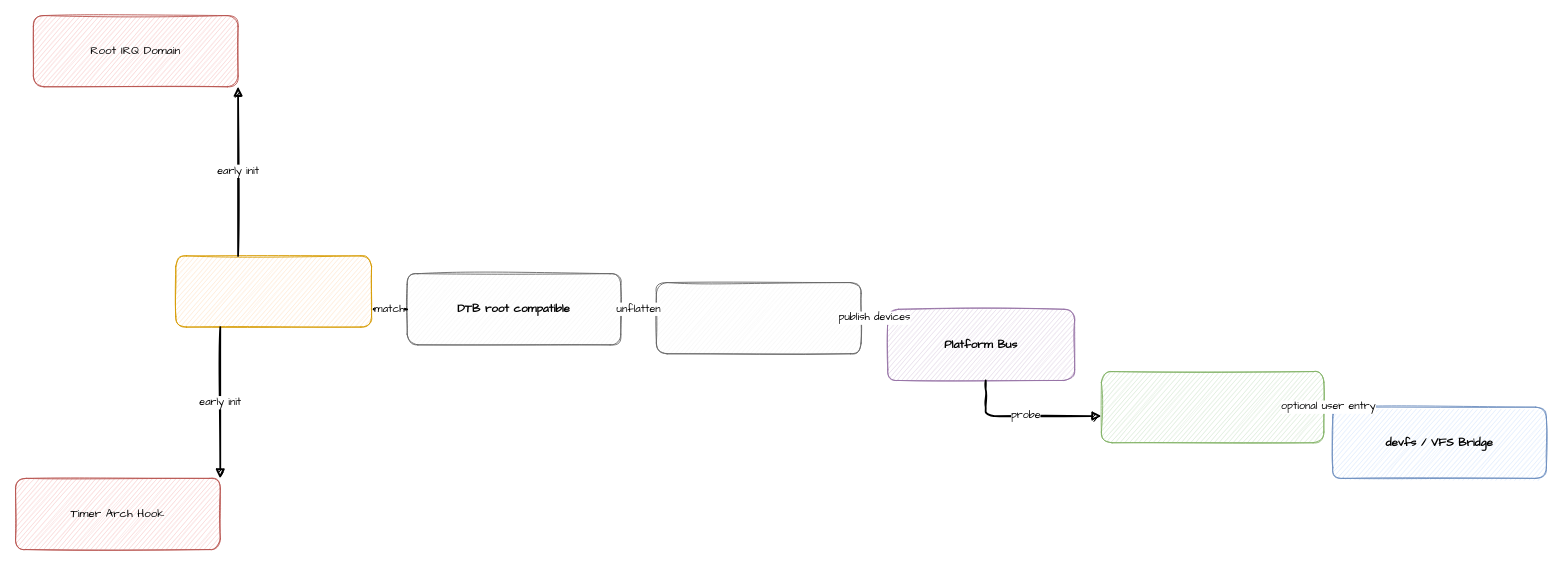
This 1562x565 diagram has some shape labels left out. The shapes that lost their labels are listed below. From the top down, each one's centre as x and y in pixels, then its label:
At pixel 273 291: "MachineDesc".
At pixel 758 318: "Open Firmware Node".
At pixel 1212 407: "Device Driver Owner".
